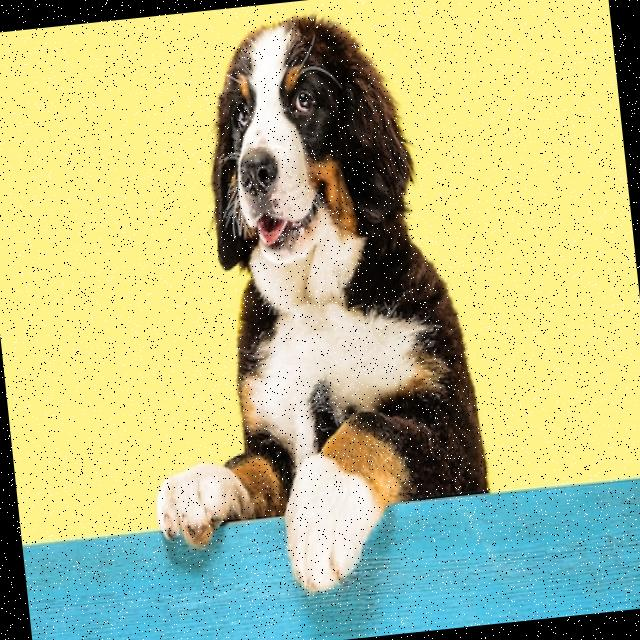Dog: (106, 2, 496, 608)
